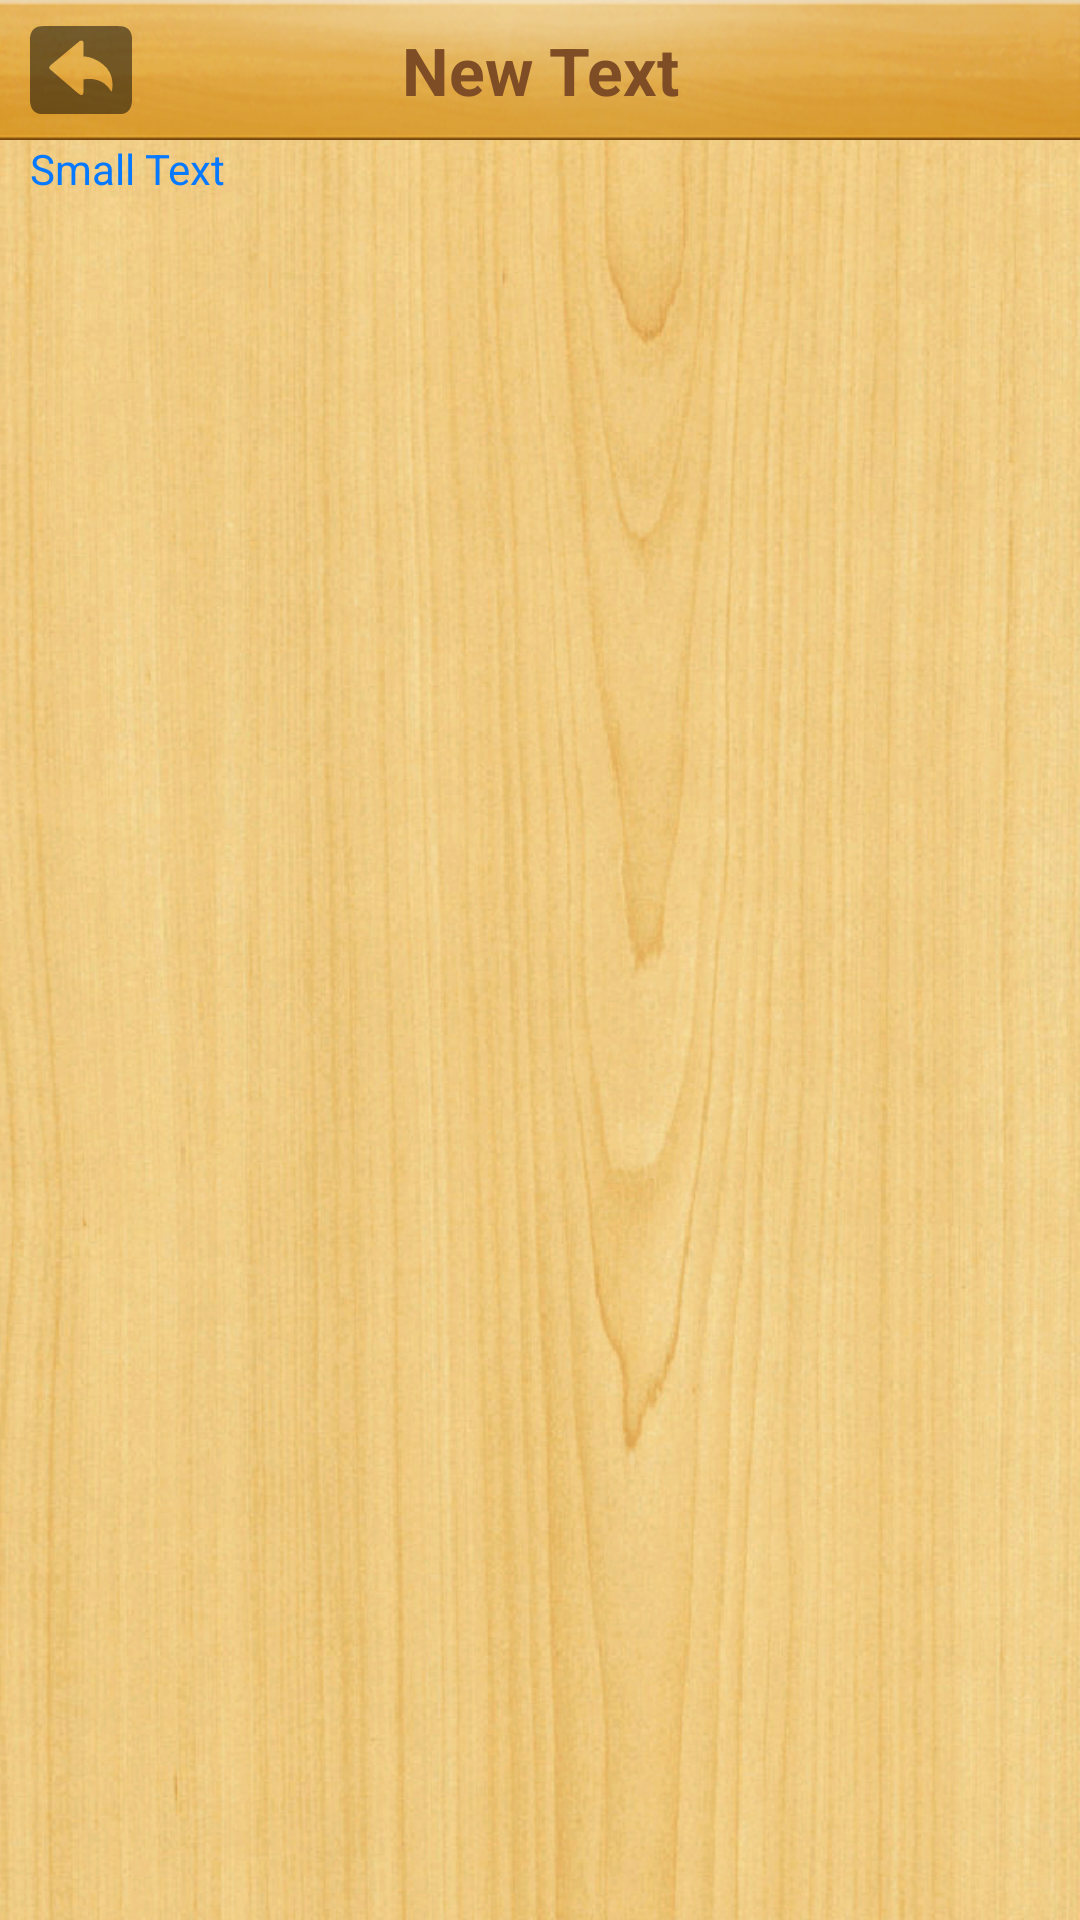

Named icons in this screenshot (1080px x 1920px) and their centers, (x=x, y=y):
back: (x=81, y=70)
